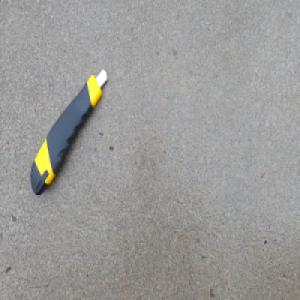Cutter: (29, 67, 107, 196)
